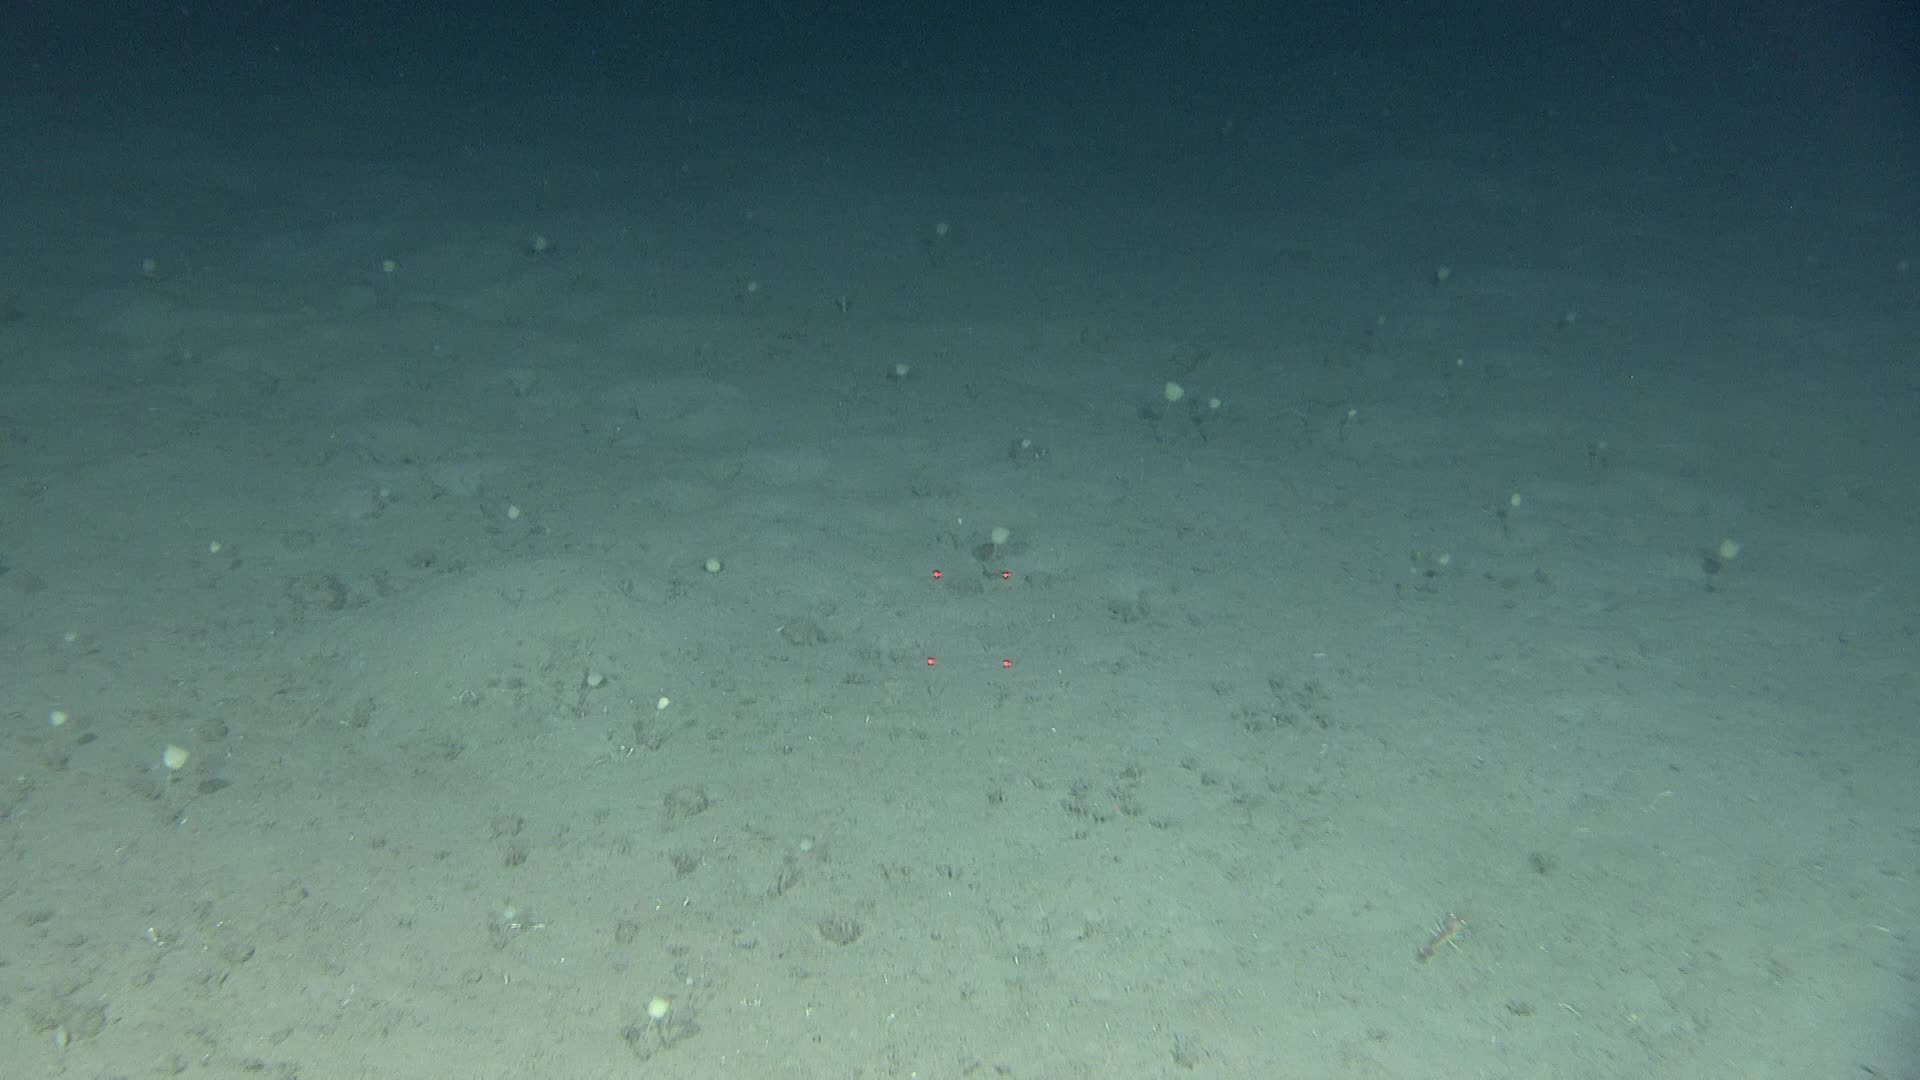S.borealis: (144, 729, 202, 804), (624, 993, 682, 1059), (38, 691, 76, 756), (633, 686, 673, 740), (1420, 534, 1460, 588), (556, 665, 595, 719), (480, 902, 518, 956), (691, 546, 729, 600), (500, 492, 538, 546), (365, 253, 404, 307), (518, 222, 556, 276), (980, 513, 1018, 567), (1498, 480, 1536, 534), (1709, 534, 1747, 588), (1153, 373, 1191, 427), (1651, 124, 1689, 178), (787, 827, 825, 880), (135, 248, 173, 291), (1575, 421, 1613, 464), (1555, 302, 1593, 345), (1325, 400, 1364, 443), (1191, 389, 1229, 433), (922, 216, 960, 260), (1882, 248, 1920, 291), (884, 361, 922, 394), (1364, 307, 1402, 340), (173, 340, 211, 373), (1785, 253, 1824, 286), (58, 621, 96, 653), (729, 200, 767, 232), (1536, 103, 1575, 135), (202, 529, 220, 572), (1431, 260, 1449, 302), (1487, 135, 1507, 167), (740, 276, 758, 307), (682, 157, 700, 189)
